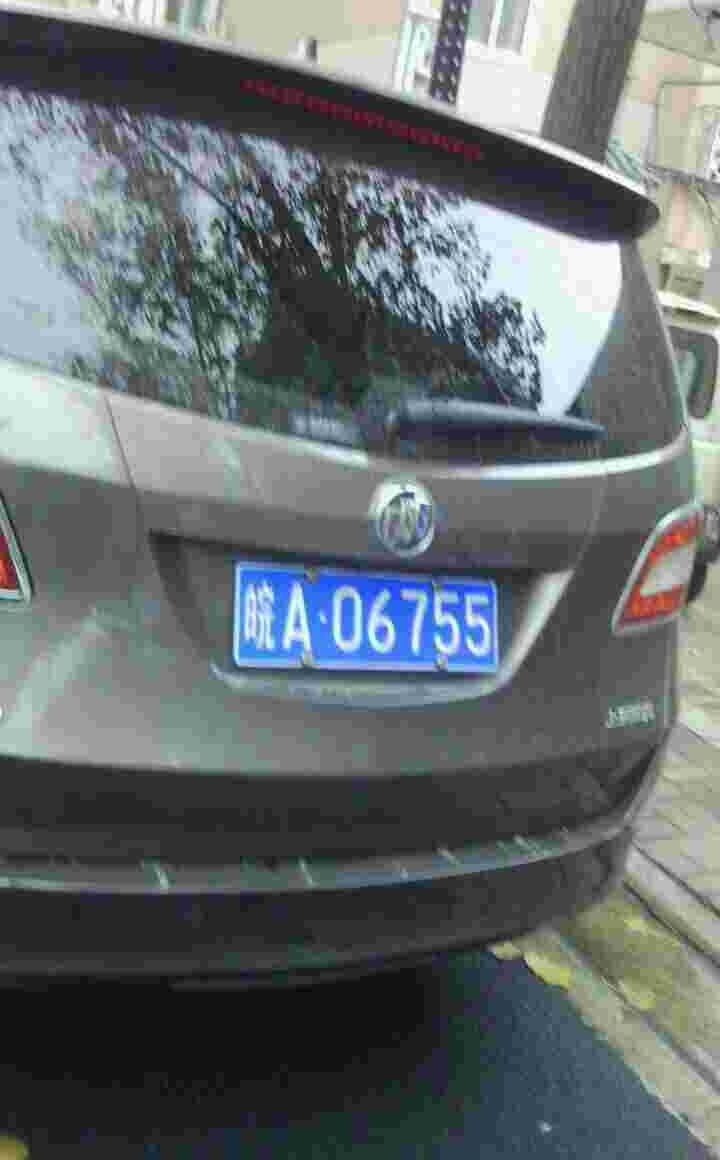license_plate: (247, 581, 512, 669)
